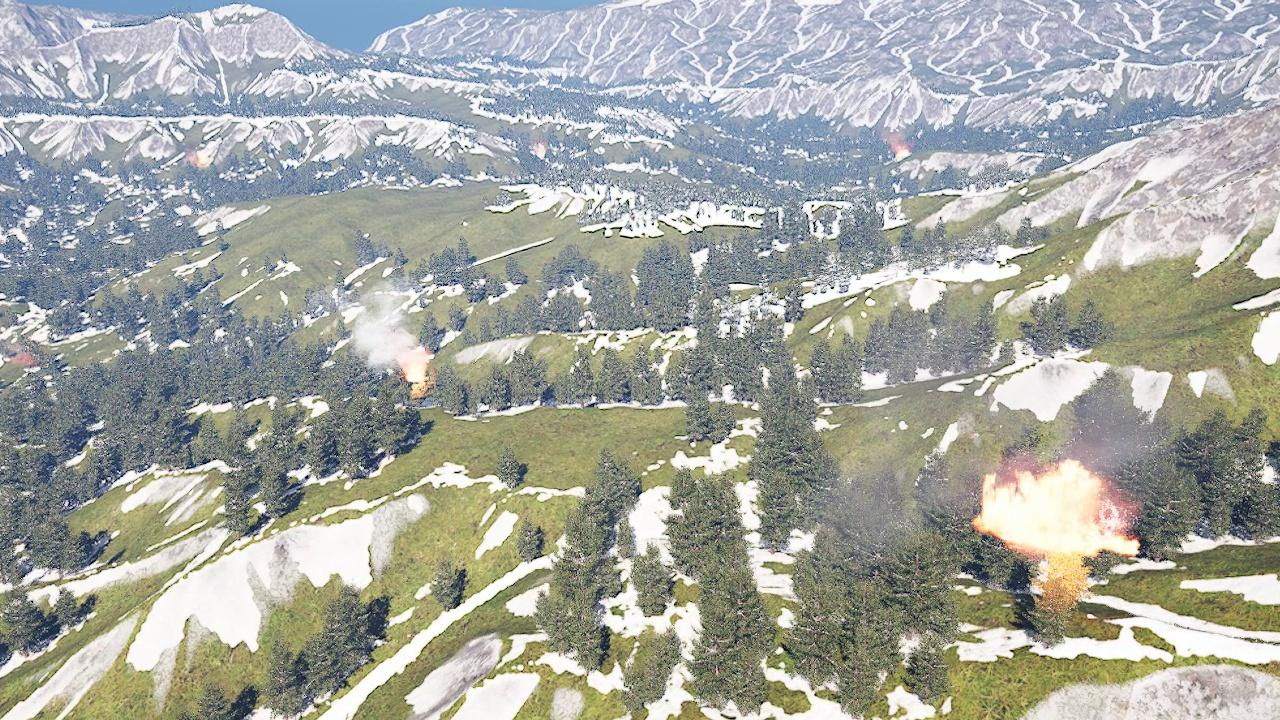fire: (982, 457, 1134, 560), (404, 355, 434, 395), (194, 153, 213, 169), (536, 143, 550, 158), (896, 147, 910, 161)
smoke: (341, 281, 428, 367), (0, 325, 36, 365), (887, 120, 913, 150)
